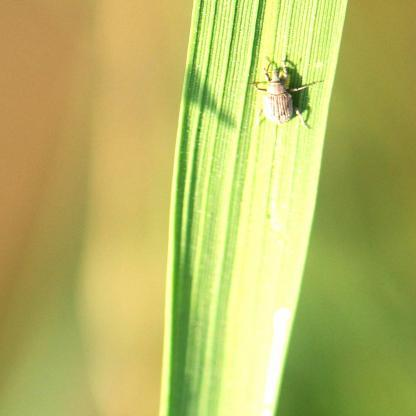rice-bug: (250, 58, 320, 130)
